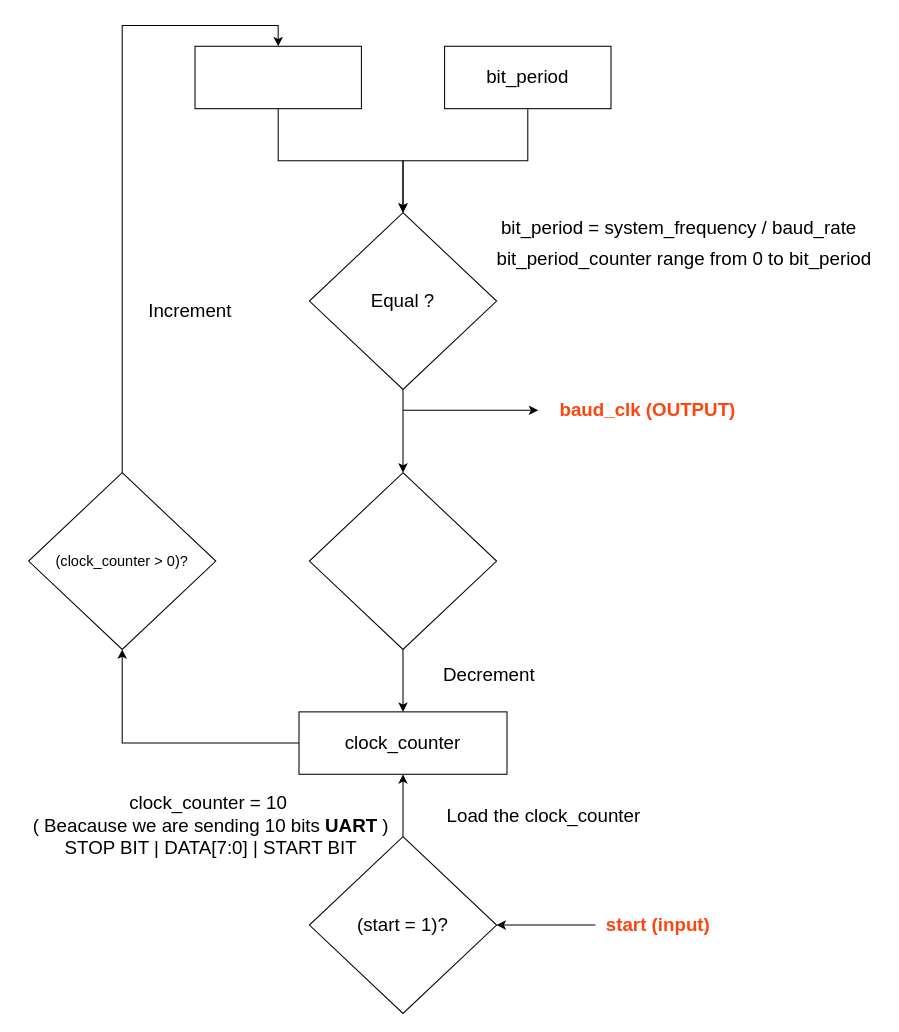
Some shapes in this 899 by 1032 pixel diagram are drawn without their labels. The centre of each missing label's shape, as x and y in pixels:
"(baud_clk = 1)?" goes at (402,560).
"bit_period_counter" goes at (277,77).
